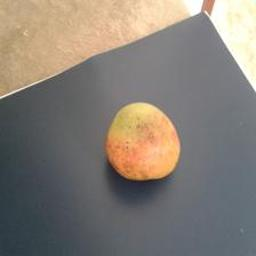Mango Semifresh: (98, 90, 189, 195)
